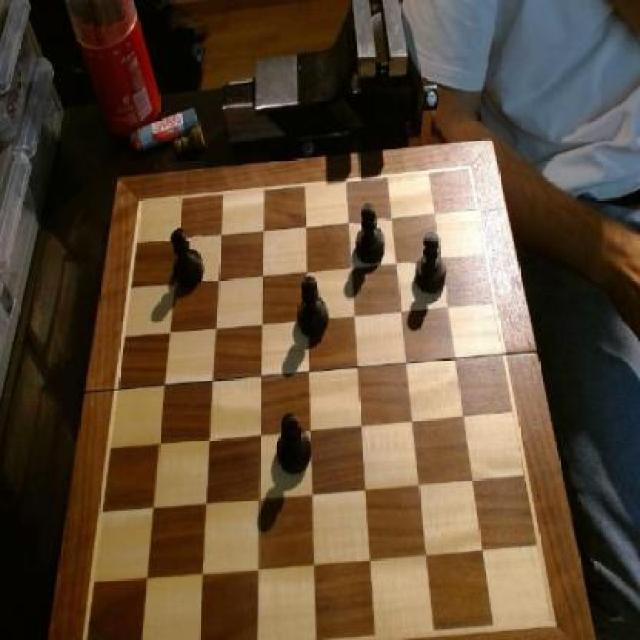black-knight: (412, 231, 450, 297), (274, 411, 311, 478), (297, 274, 332, 341), (168, 228, 205, 290), (354, 203, 388, 265)
